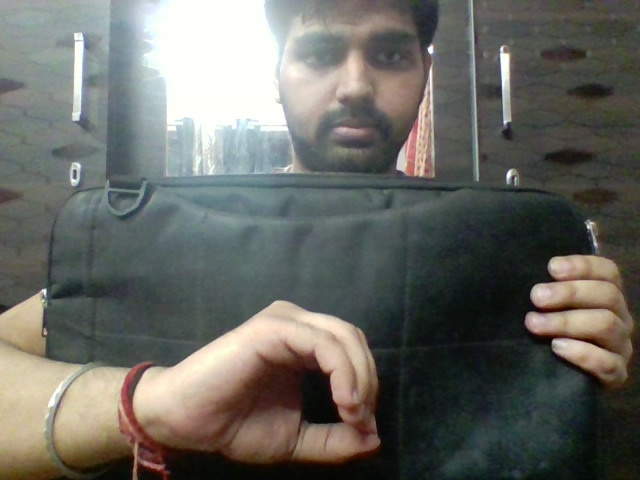o: (168, 293, 405, 470)
